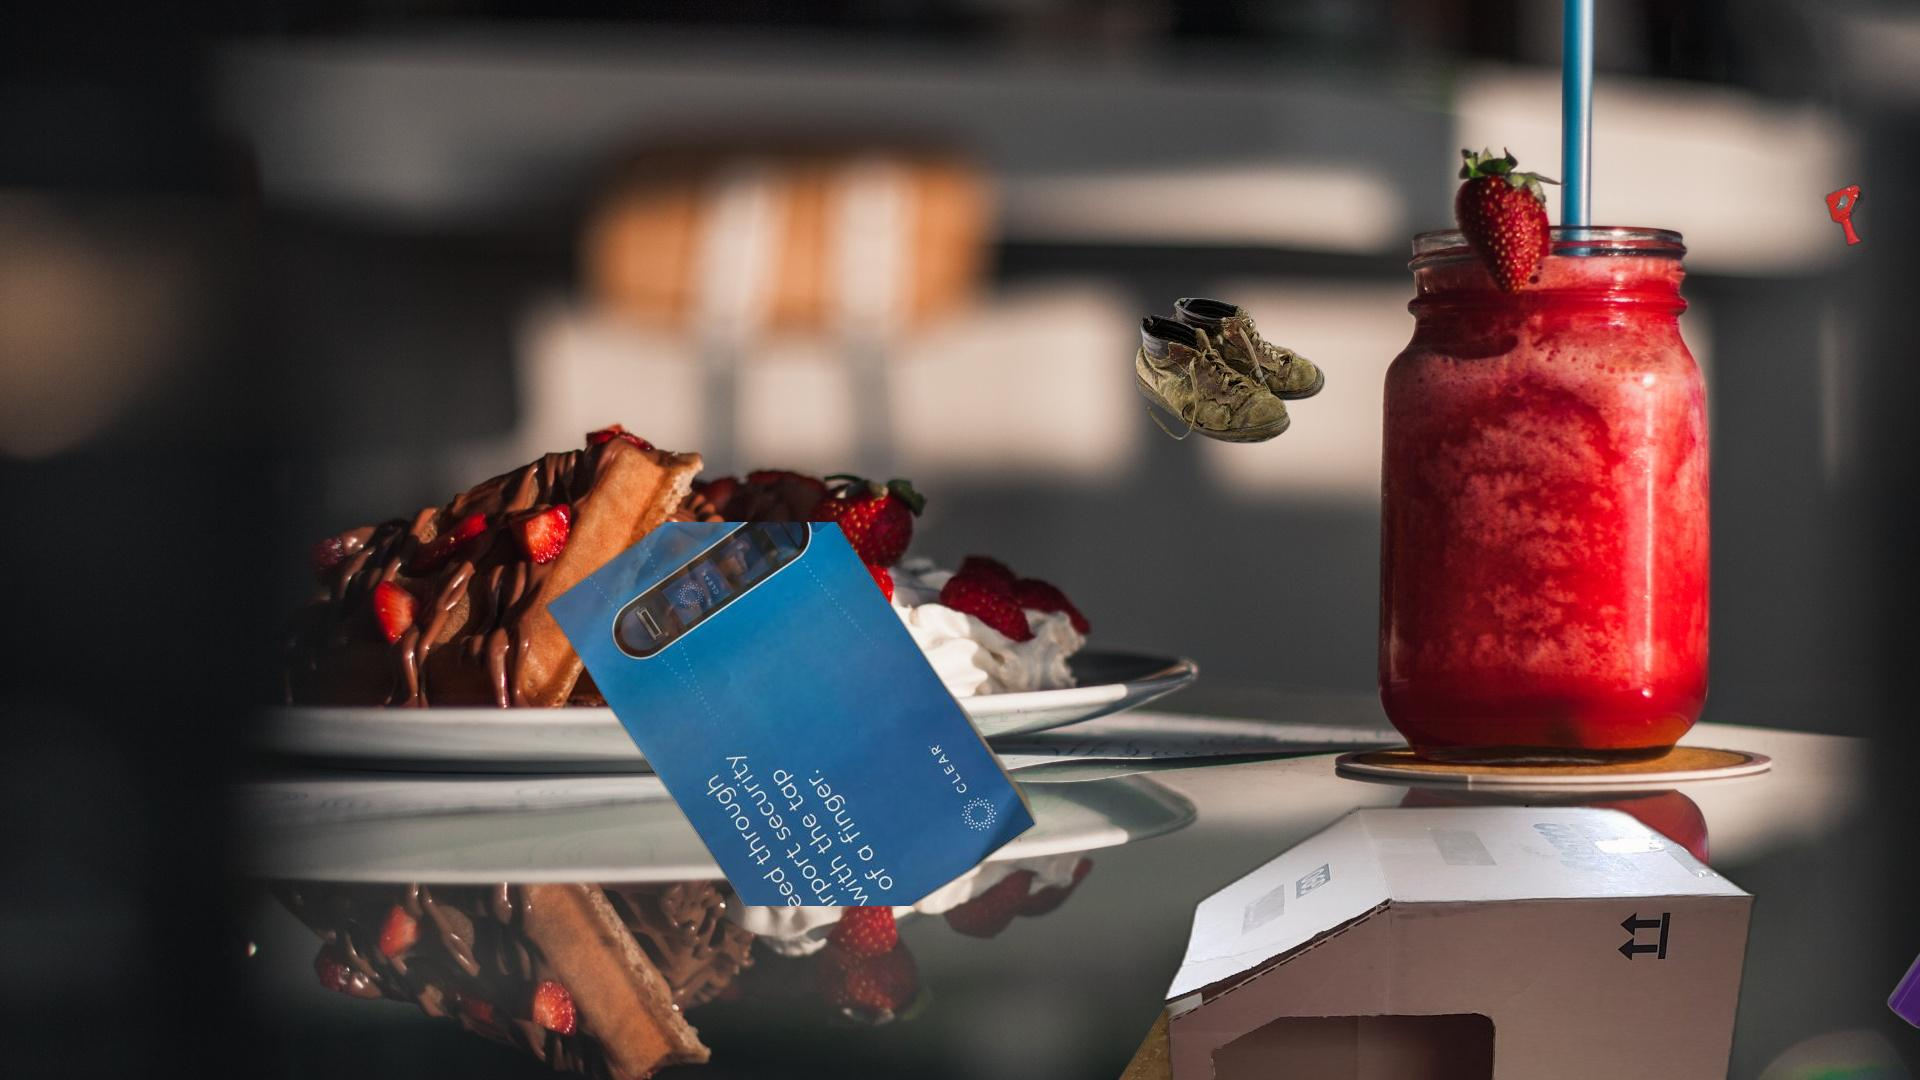paper: (525, 522, 1036, 906), (1093, 885, 1340, 1080)
penholder: (1880, 535, 1920, 1036)
shoes: (1131, 295, 1327, 446)
trashbox-cardboard: (1153, 795, 1764, 1080), (1818, 42, 1920, 274)
